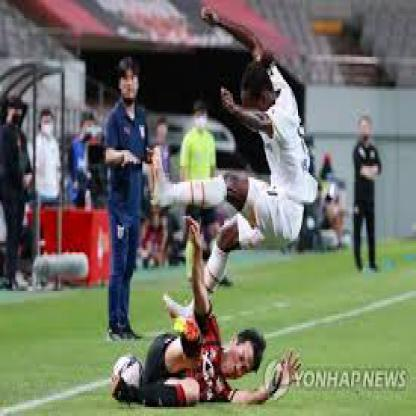Fall_Down: (143, 216, 302, 409)
